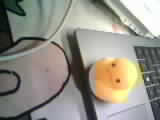duck: (84, 51, 140, 110)
